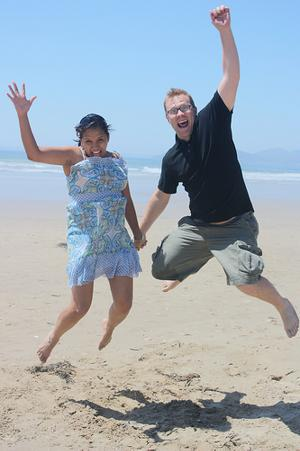person: (140, 6, 299, 337)
